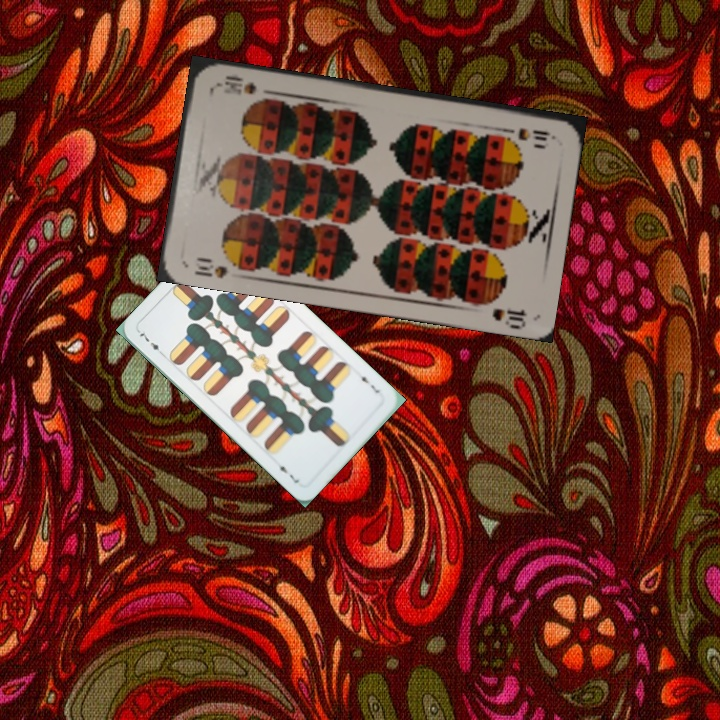E7: (135, 327, 167, 359), (355, 368, 382, 396)
S10: (498, 124, 558, 144), (191, 253, 231, 281)
